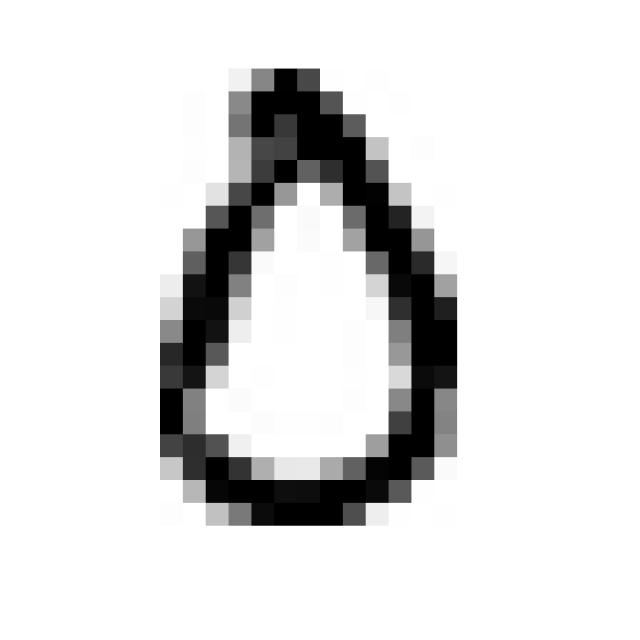5 -five-: (137, 50, 474, 548)
